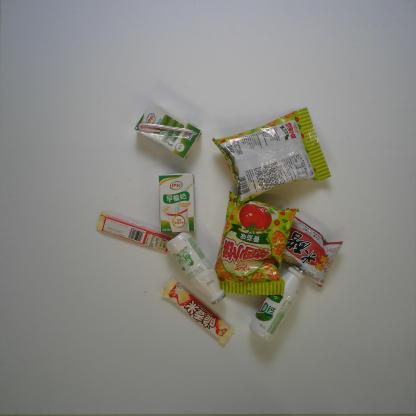Chocolate: (160, 278, 235, 346), (95, 211, 176, 256)
Milk: (247, 263, 306, 342), (164, 231, 226, 306), (133, 100, 201, 160), (158, 172, 196, 234)
Puffed Food: (210, 105, 332, 208), (214, 190, 301, 297)
Seasoner: (282, 215, 343, 288)
